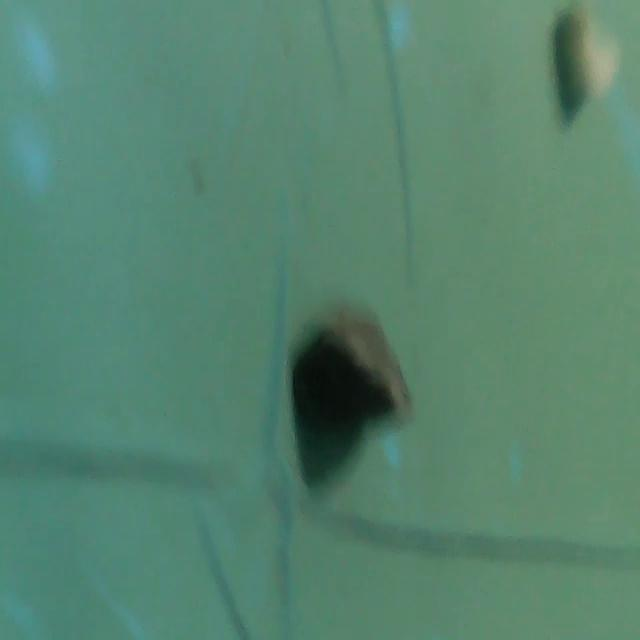rock: (298, 294, 420, 441)
